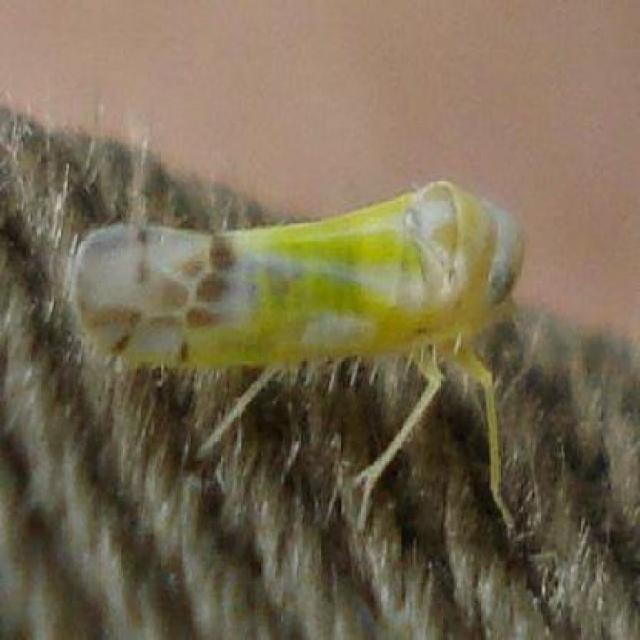green-leafhopper: (77, 183, 529, 388)
